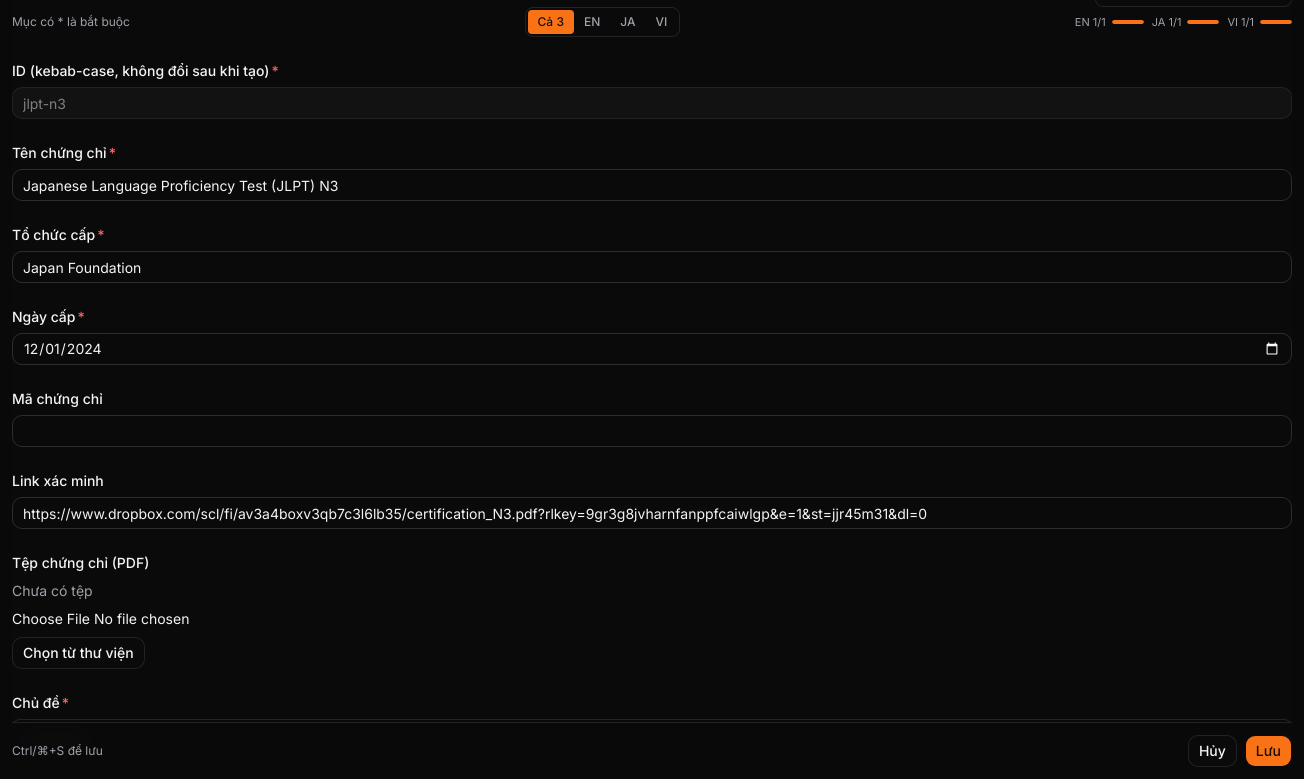
Test case: form and new server data › a restore elsewhere on the page leaves other forms' edits alone
Step 1. Replace the text in the field with id "field-name" with "Tôi đang sửa" → (652, 185), box [12, 169, 1292, 201]
(page scrolled)
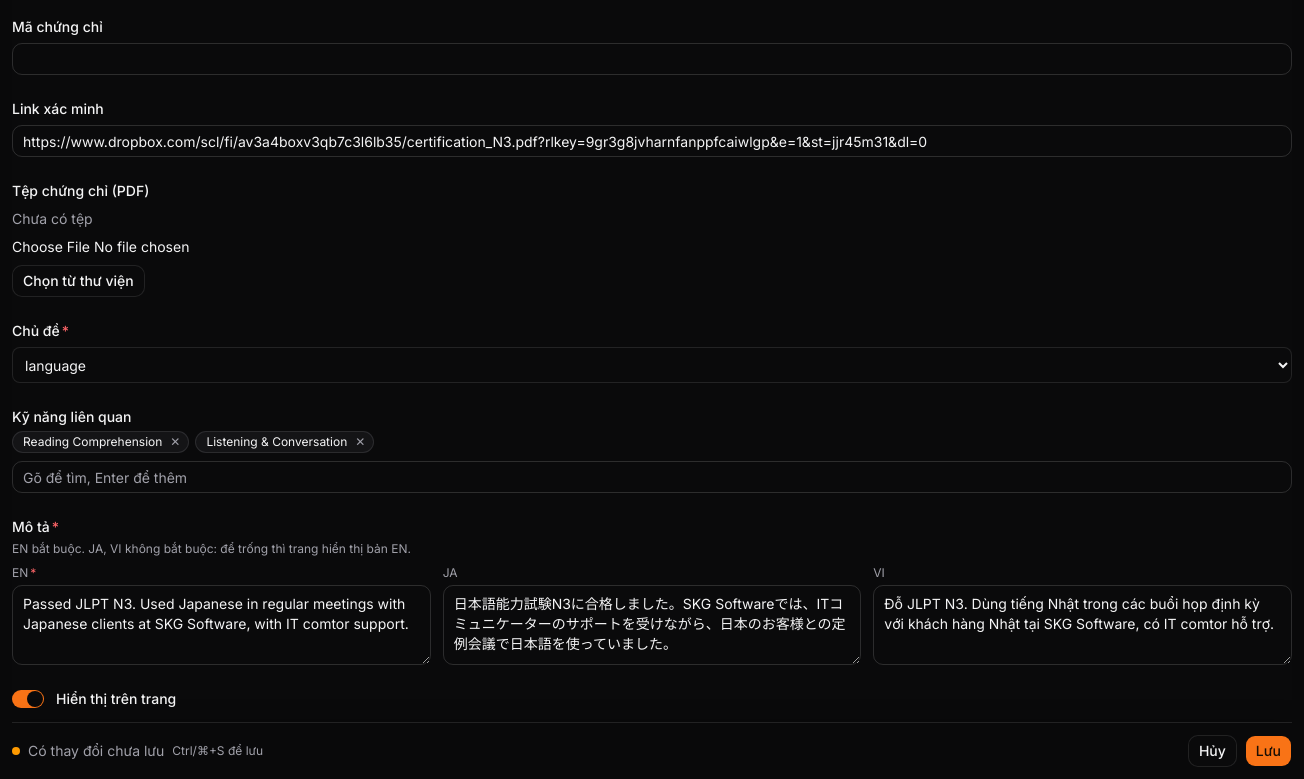
Expected: the text "Có thay đổi chưa lưu" is shown, [12, 741, 164, 761]
